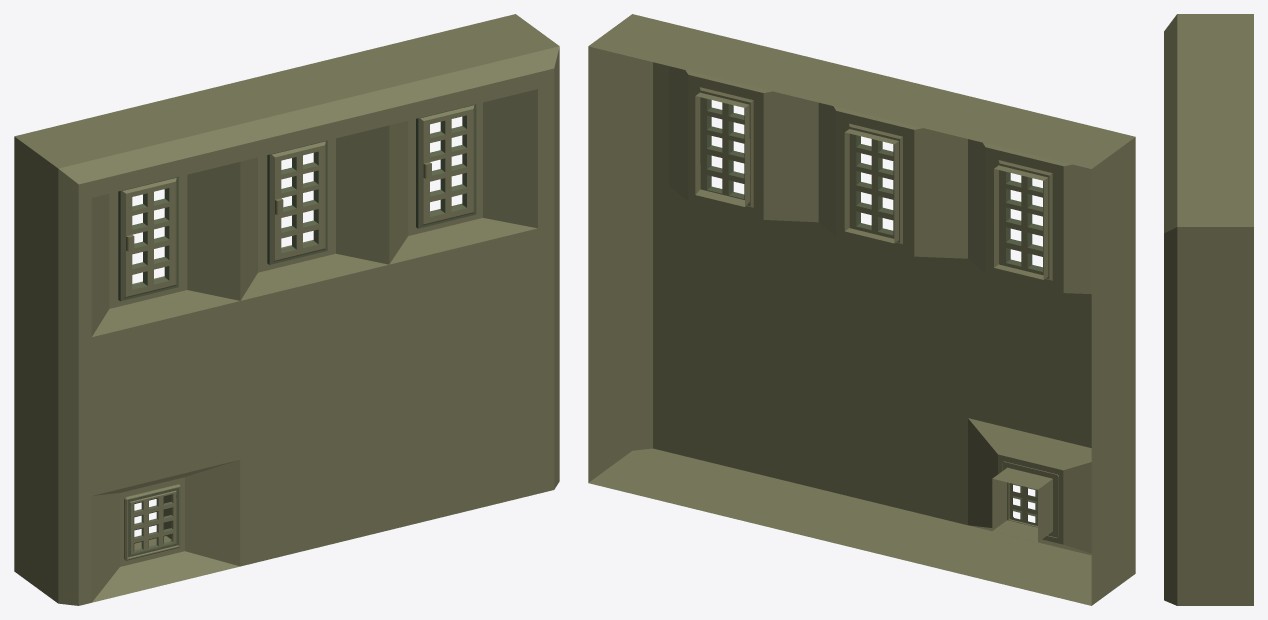
The model's file is home_big_wall.fbx.
The picture shows the model from 3 angles, left to right: view 1: azimuth 30°, elevation 25°; view 2: azimuth 150°, elevation 25°; view 3: azimuth 270°, elevation 25°; orthographic projection. The views are drawn at different scales.
Visible parts, largest first — view 1: home_big_wall_main, home_big_wall_grid_door; view 2: home_big_wall_main, home_big_wall_grid_door; view 3: home_big_wall_main.
Boxes of the visible parts, <box> form: home_big_wall_main: <box>14,14,559,605</box>; home_big_wall_grid_door: <box>118,104,476,560</box>; home_big_wall_main: <box>588,14,1135,605</box>; home_big_wall_grid_door: <box>699,87,1058,537</box>; home_big_wall_main: <box>1164,14,1253,605</box>.
Bounding box in the file's own units: 16.86 × 13.98 × 3.
